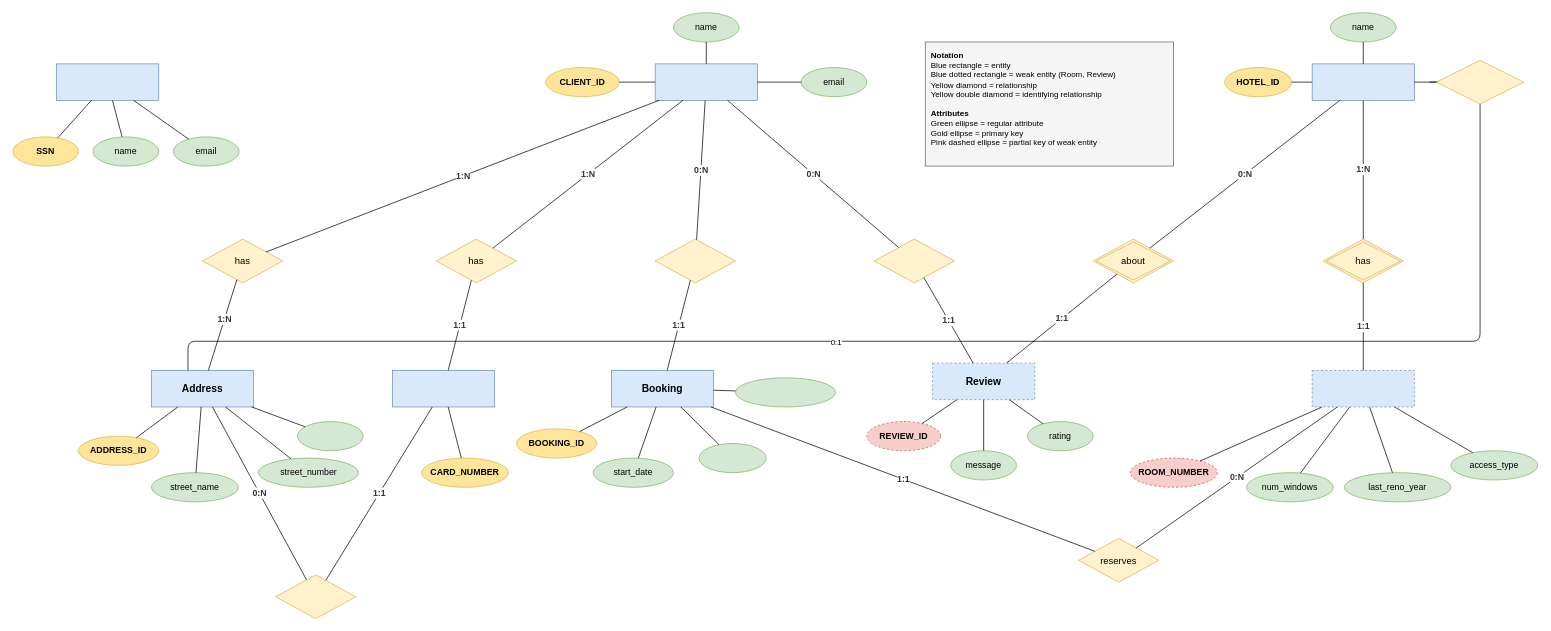
Some shapes in this 1551 by 631 pixel diagram are drawn without their labels. The shapes that lost their labels are listed below. From the top down, each one's centre as x and y in pixels, then its label:
point 107,81: Manager
point 705,81: Client
point 1362,81: Hotel
point 1480,81: located_at
point 694,260: makes
point 913,260: writes
point 443,388: Credit Card
point 785,392: price_per_day
point 1362,388: Room
point 330,436: city
point 732,458: end_date
point 315,596: billing
